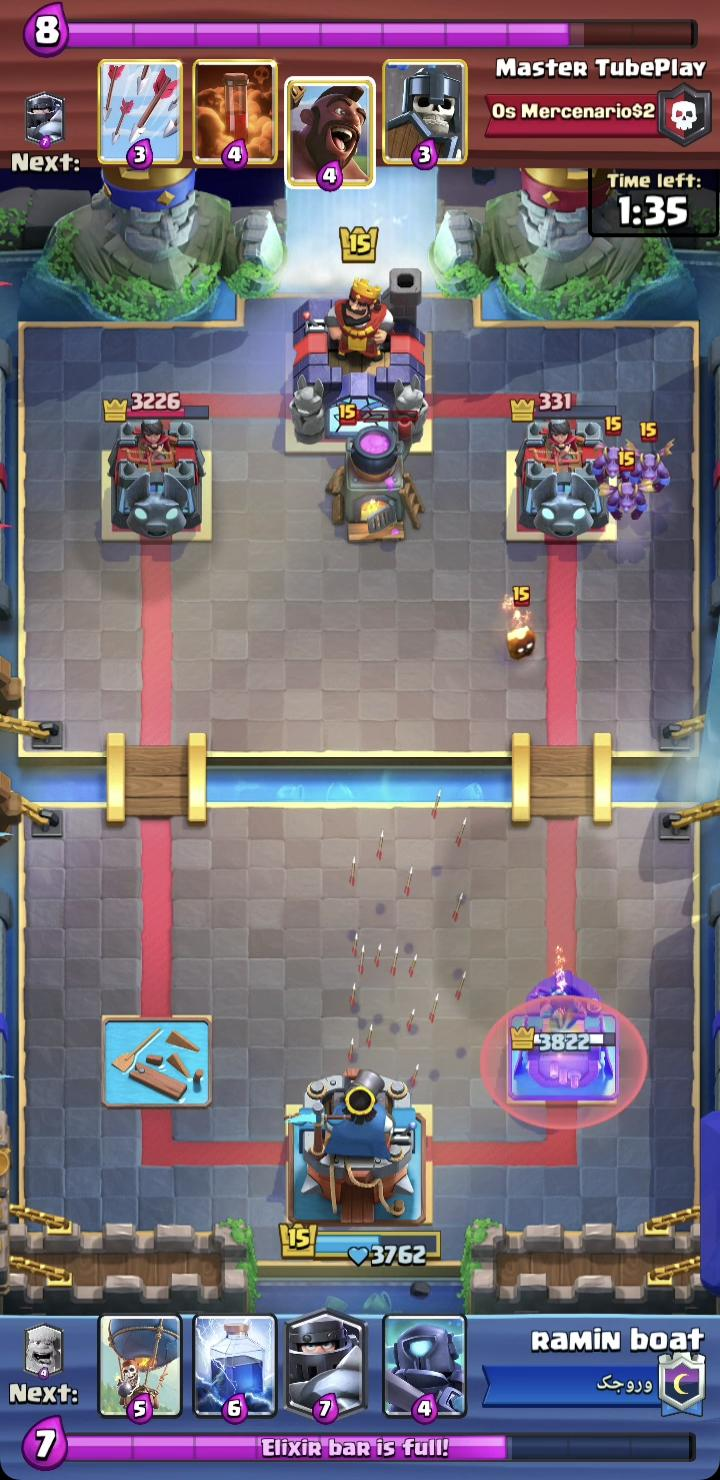enemy_fire_spirit: (501, 584, 537, 661)
enemy_furnace: (325, 402, 426, 544)
enemy_minion: (623, 420, 676, 492), (593, 415, 637, 485), (606, 449, 648, 522)
